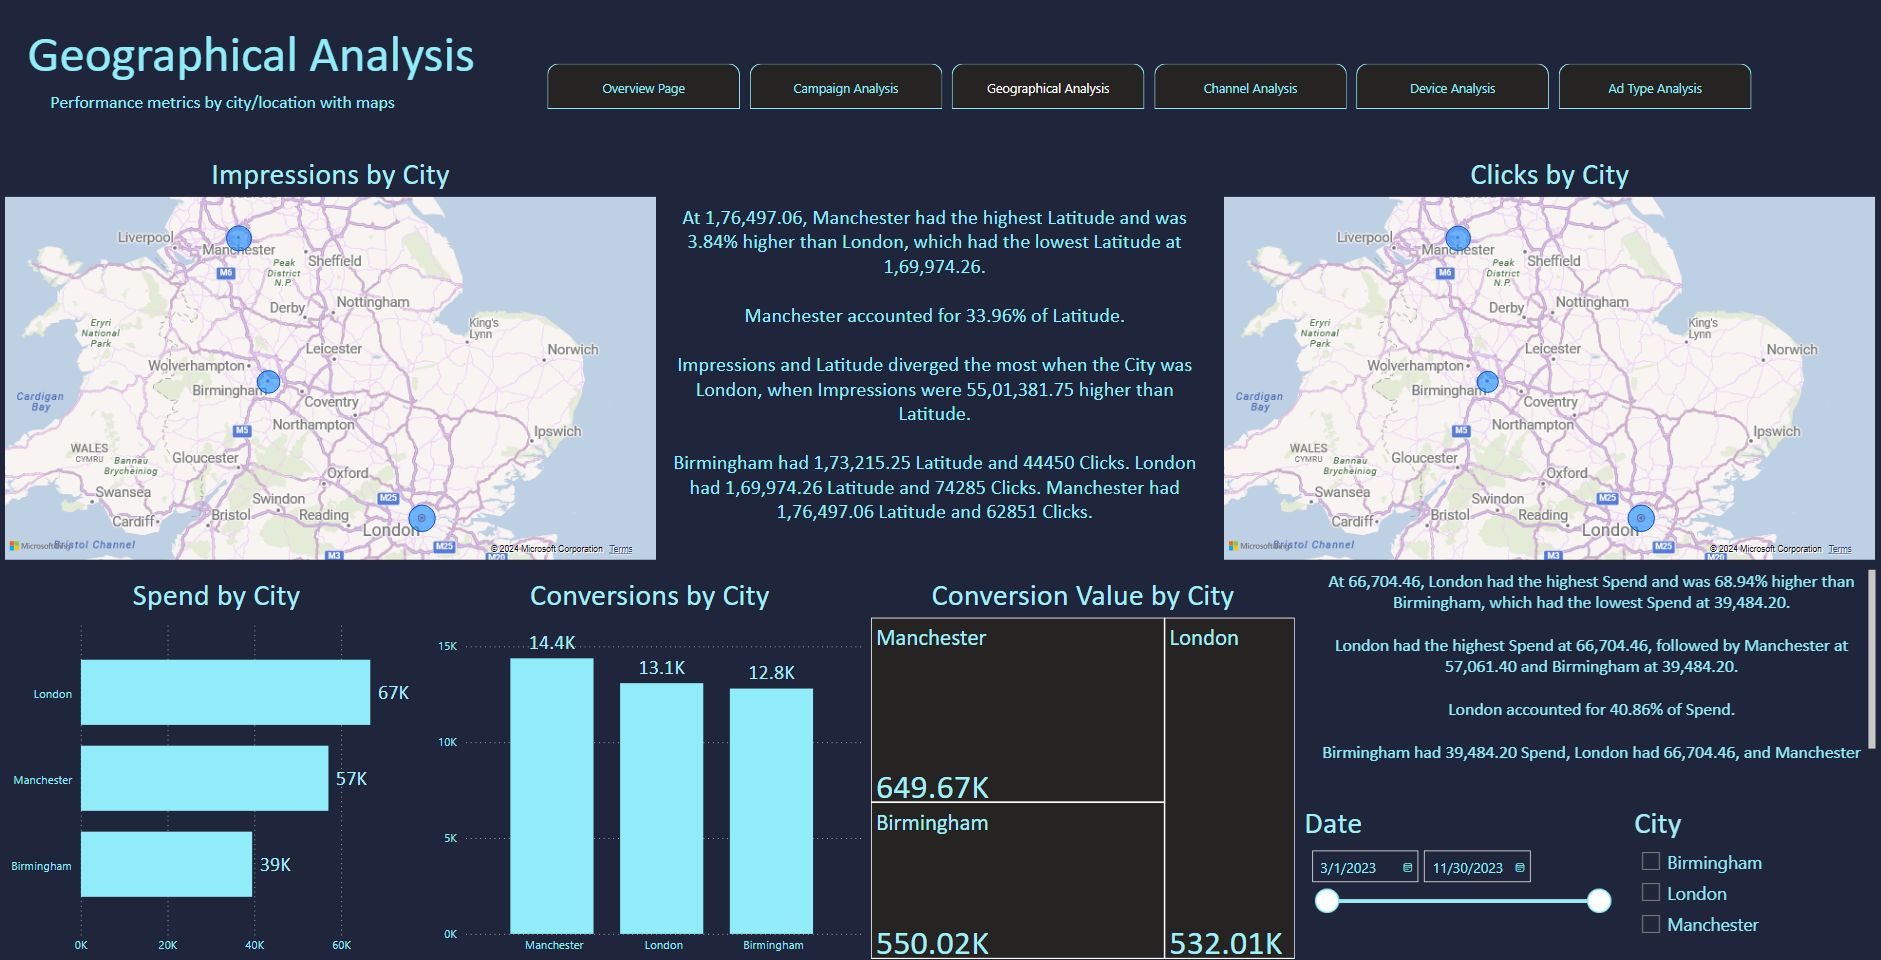

The dashboard page shown, as its layout file describes it:
{"tool":"powerbi","page":{"name":"Geographical Analysis","canvas":[1980,1020],"ordinal":2},"visuals":[{"type":"map","title":"Impressions by City","fields":{"Category":["data.City/Location"],"Size":["Sum(data.Impressions)"],"Y":["Sum(data.Latitude)"]},"box":[0,168,696,432],"z":0},{"type":"map","title":"Clicks by City","fields":{"Category":["data.City/Location"],"Size":["Sum(data.Clicks)"],"Y":["Sum(data.Latitude)"]},"box":[1284,168,696,432],"z":1000},{"type":"textbox","box":[696,216,576,384],"z":2000},{"type":"clusteredBarChart","fields":{"Y":["Sum(data.Spend, GBP)"],"Category":["data.City/Location"]},"box":[0,612,456,408],"z":3000},{"type":"columnChart","fields":{"Y":["Sum(data.Conversions)"],"Category":["data.City/Location"]},"box":[456,612,456,408],"z":4000},{"type":"treemap","fields":{"Values":["Sum(data.Total conversion value, GBP)"],"Group":["data.City/Location"]},"box":[912,612,456,408],"z":5000},{"type":"slicer","title":"Date","fields":{"Values":["data.Date"]},"box":[1368,852,336,168],"z":6000},{"type":"slicer","title":"City","fields":{"Values":["data.City/Location"]},"box":[1716,852,264,168],"z":7000},{"type":"textbox","box":[1380,600,600,216],"z":8000},{"type":"textbox","box":[24,24,528,96],"z":9000},{"type":"textbox","box":[48,96,384,72],"z":10000},{"type":"pageNavigator","box":[576,72,1272,48],"z":11000}]}

Visuals, with their boxes in screenshot pixels (x1, y1, x2, y2), scaled from the page's 1980x1020 canvas onto the 1881x960 screenshot:
"Impressions by City" map: pyautogui.locateOnScreen(0, 158, 661, 565)
"Clicks by City" map: pyautogui.locateOnScreen(1220, 158, 1880, 565)
textbox: pyautogui.locateOnScreen(661, 203, 1208, 565)
clusteredBarChart - Sum(data.Spend, GBP) x data.City/Location: pyautogui.locateOnScreen(0, 576, 433, 959)
columnChart - Sum(data.Conversions) x data.City/Location: pyautogui.locateOnScreen(433, 576, 866, 959)
treemap - Sum(data.Total conversion value, GBP) x data.City/Location: pyautogui.locateOnScreen(866, 576, 1300, 959)
"Date" slicer: pyautogui.locateOnScreen(1300, 802, 1619, 959)
"City" slicer: pyautogui.locateOnScreen(1630, 802, 1880, 959)
textbox: pyautogui.locateOnScreen(1311, 565, 1880, 768)
textbox: pyautogui.locateOnScreen(23, 23, 524, 113)
textbox: pyautogui.locateOnScreen(46, 90, 410, 158)
pageNavigator: pyautogui.locateOnScreen(547, 68, 1756, 113)
